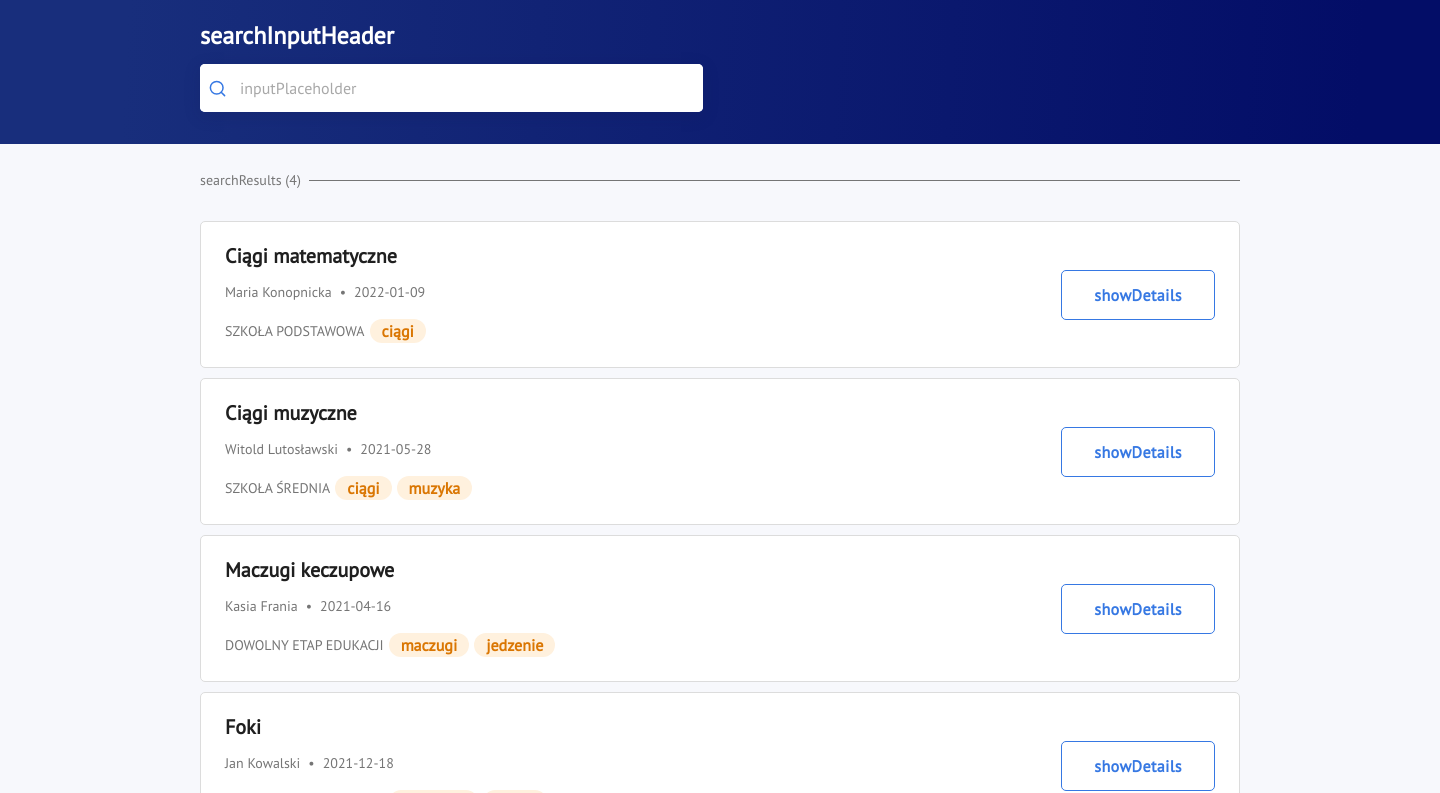
it: <ProblemsPage/> › should display search icon on tag suggestion
Type "Oc" into the field labelled "inputPlaceholder" at (452, 88), box x1=200 y1=64 x2=703 y2=112
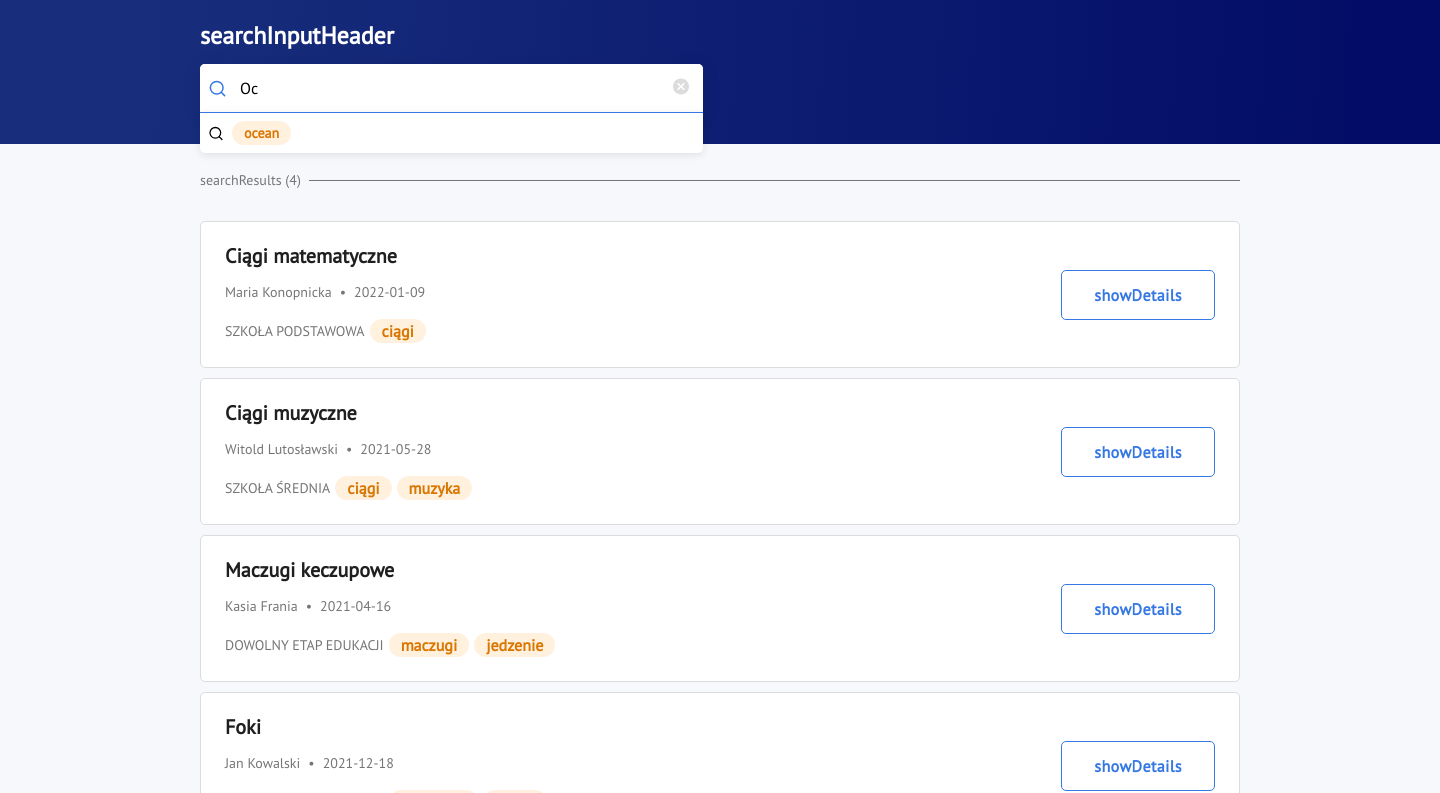
Now the list item reads "ocean", box x1=244 y1=124 x2=279 y2=142
Now the icon named "searchByTagIcon" is shown, box x1=208 y1=124 x2=232 y2=142
